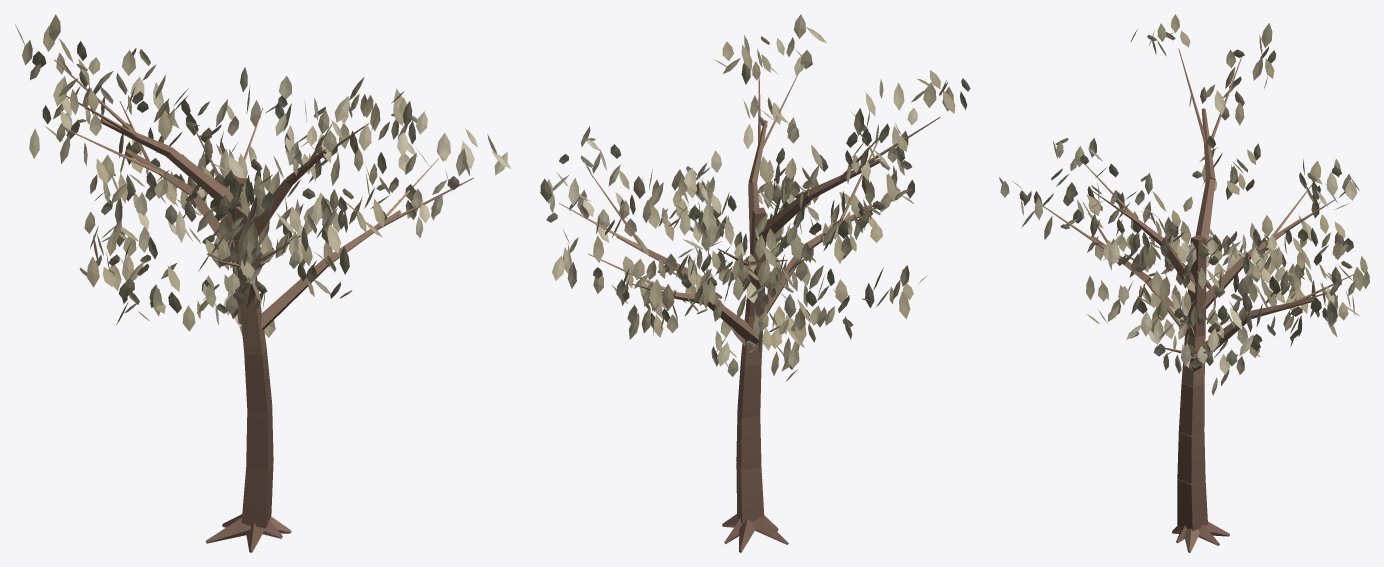
File: tree_3d_01_golden_beige.glb
The picture shows the model from 3 angles, left to right: view 1: azimuth 30°, elevation 25°; view 2: azimuth 150°, elevation 25°; view 3: azimuth 270°, elevation 25°; orthographic projection. The views are drawn at different scales.
Visible parts, largest first — view 1: tree_3d_01_golden_beige_foliage, tree_3d_01_golden_beige_wood; view 2: tree_3d_01_golden_beige_foliage, tree_3d_01_golden_beige_wood; view 3: tree_3d_01_golden_beige_foliage, tree_3d_01_golden_beige_wood.
Boxes of the visible parts, x1=… form: tree_3d_01_golden_beige_foliage: x1=15, y1=14, x2=511, y2=337; tree_3d_01_golden_beige_wood: x1=54, y1=59, x2=473, y2=552; tree_3d_01_golden_beige_foliage: x1=540, y1=14, x2=970, y2=381; tree_3d_01_golden_beige_wood: x1=559, y1=72, x2=940, y2=552; tree_3d_01_golden_beige_foliage: x1=999, y1=14, x2=1369, y2=395; tree_3d_01_golden_beige_wood: x1=1042, y1=48, x2=1353, y2=552.
Bounding box in the file's own units: 7.5 × 9 × 6.8.
